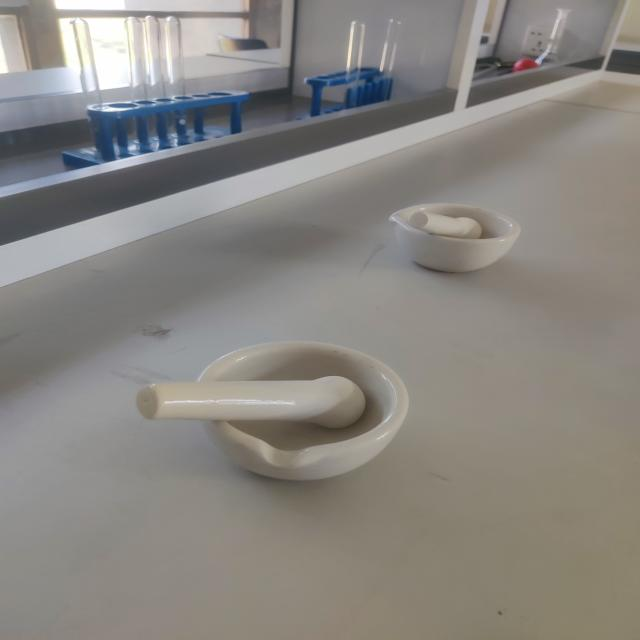Porcelain_Mortar Pestle: (105, 316, 444, 510), (363, 170, 548, 300)
